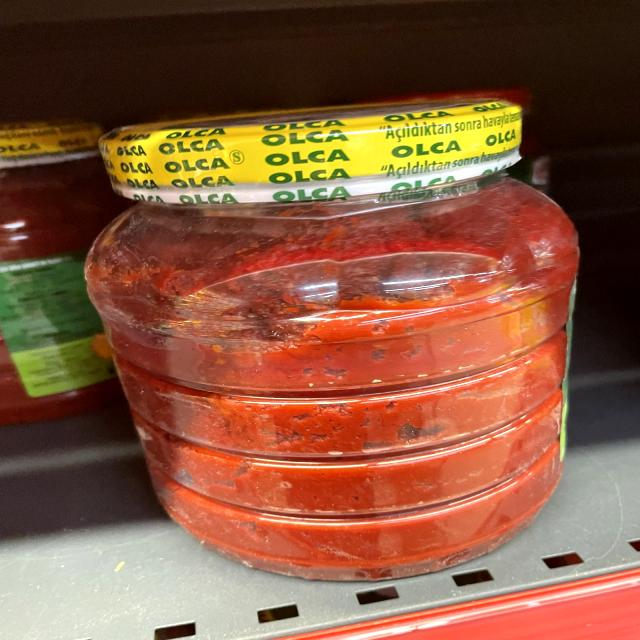tomato paste: (73, 86, 603, 582)
